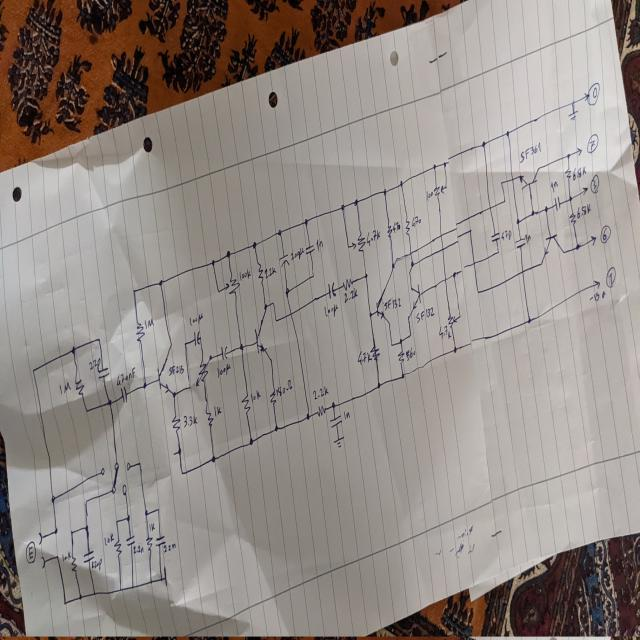capacitor: (326, 276, 336, 299), (82, 548, 94, 564), (278, 252, 290, 268), (97, 366, 110, 380), (190, 329, 200, 346), (304, 244, 315, 258), (553, 193, 561, 212), (219, 343, 227, 361), (331, 414, 342, 427), (490, 230, 501, 242), (515, 237, 526, 249), (119, 387, 128, 401), (126, 534, 136, 546), (155, 534, 164, 546)
crossover: (288, 308, 294, 318), (472, 257, 477, 266), (443, 274, 448, 282), (520, 267, 524, 275), (510, 175, 514, 183), (441, 244, 445, 252), (488, 204, 492, 211), (439, 232, 443, 238), (409, 250, 413, 256)
ground: (333, 434, 344, 448), (163, 564, 170, 585), (568, 109, 578, 121)
junction: (70, 344, 76, 354), (330, 400, 336, 410), (390, 261, 396, 271), (248, 437, 254, 446), (398, 179, 404, 188), (50, 494, 56, 503), (543, 204, 549, 213), (107, 397, 112, 407), (238, 342, 244, 350), (284, 288, 290, 296), (252, 240, 257, 249), (142, 380, 147, 389), (211, 454, 216, 463), (530, 208, 535, 217), (481, 139, 486, 148), (158, 278, 163, 287), (303, 217, 308, 226), (143, 508, 148, 517), (575, 242, 580, 251), (496, 247, 501, 256), (382, 187, 387, 195), (277, 228, 282, 236), (505, 128, 510, 136), (566, 150, 570, 160), (376, 381, 381, 389), (363, 271, 368, 279), (210, 258, 215, 266), (118, 584, 123, 592), (84, 523, 89, 531), (84, 406, 89, 414), (172, 390, 176, 400), (568, 194, 573, 202), (346, 242, 351, 250), (306, 411, 310, 420), (226, 249, 230, 258), (452, 270, 456, 279), (527, 316, 531, 325), (54, 526, 58, 535), (183, 339, 187, 348), (476, 287, 480, 296), (570, 100, 576, 106), (442, 160, 447, 167), (395, 255, 400, 262), (274, 424, 278, 432), (340, 203, 344, 211), (453, 345, 457, 353), (432, 162, 436, 170), (354, 198, 358, 206), (410, 260, 414, 268), (96, 335, 100, 343), (132, 286, 136, 294), (63, 598, 67, 606), (31, 367, 35, 375), (180, 468, 184, 476), (126, 514, 130, 522), (368, 310, 372, 318), (78, 592, 82, 600), (499, 180, 504, 186), (130, 583, 134, 590), (70, 528, 74, 535), (468, 227, 472, 234), (516, 218, 520, 225), (84, 498, 88, 505), (400, 372, 404, 379), (311, 272, 315, 279), (264, 302, 268, 309), (274, 316, 278, 323), (138, 460, 142, 467), (56, 552, 60, 559), (502, 198, 506, 204), (156, 506, 160, 512), (408, 332, 412, 338), (93, 590, 97, 596), (149, 576, 152, 584), (444, 184, 448, 190), (198, 334, 202, 340), (399, 337, 402, 344), (159, 574, 162, 581), (188, 384, 192, 389), (458, 313, 462, 318), (217, 288, 220, 294), (390, 342, 393, 347)
resistor: (195, 356, 210, 388), (224, 270, 240, 296), (351, 230, 366, 252), (74, 367, 85, 396), (135, 319, 145, 344), (240, 392, 250, 413), (315, 401, 327, 418), (171, 414, 181, 434), (205, 408, 214, 429), (269, 386, 277, 409), (69, 556, 79, 574), (370, 344, 380, 362), (257, 261, 264, 285), (433, 184, 444, 199), (447, 312, 457, 328), (342, 277, 353, 291), (114, 538, 122, 556), (145, 535, 152, 555), (386, 218, 393, 238), (568, 211, 576, 225), (564, 165, 571, 181), (405, 215, 410, 236), (397, 351, 404, 365)
switch: (99, 460, 134, 496)
terminal: (589, 232, 598, 245), (37, 531, 43, 545), (40, 555, 46, 568), (594, 279, 601, 288), (576, 146, 582, 156), (582, 185, 588, 195), (582, 92, 589, 100)
text: (518, 140, 540, 162), (115, 366, 136, 386), (276, 377, 292, 397), (416, 306, 434, 323), (605, 264, 616, 289), (366, 228, 381, 246), (586, 132, 599, 152), (312, 385, 329, 400), (343, 286, 358, 303), (24, 541, 35, 564), (384, 296, 402, 310), (588, 82, 599, 104), (167, 363, 184, 377), (324, 302, 338, 318), (577, 202, 591, 218), (438, 324, 452, 340), (88, 356, 101, 373), (183, 413, 197, 428), (357, 351, 372, 365), (572, 165, 586, 180), (217, 362, 231, 376), (262, 265, 276, 279), (58, 380, 72, 394), (189, 313, 203, 326), (163, 540, 176, 554), (290, 247, 302, 262), (590, 174, 600, 192), (600, 225, 610, 242), (590, 290, 604, 302), (90, 559, 104, 571), (250, 389, 261, 404), (404, 347, 416, 360), (239, 268, 251, 280), (104, 532, 114, 546), (501, 229, 512, 241), (61, 551, 72, 563), (411, 214, 421, 227), (392, 220, 401, 233), (133, 545, 144, 555), (213, 405, 222, 417), (549, 178, 558, 190), (425, 188, 433, 201), (144, 319, 154, 329), (316, 238, 323, 252), (342, 409, 350, 420), (525, 231, 531, 245), (149, 520, 154, 532)
transistor: (540, 232, 565, 266), (157, 350, 171, 394), (254, 318, 268, 357), (519, 168, 539, 190), (409, 284, 422, 315), (375, 292, 386, 319)
